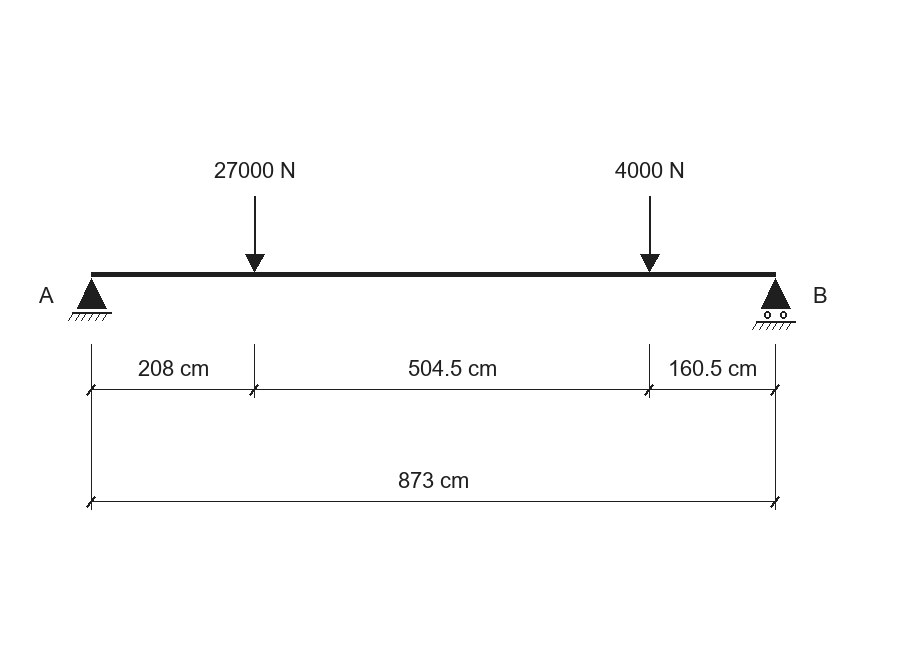pin_support: (68, 278, 112, 321)
point_load: (245, 196, 265, 272), (640, 196, 660, 272)
roller_support: (752, 278, 796, 330)
